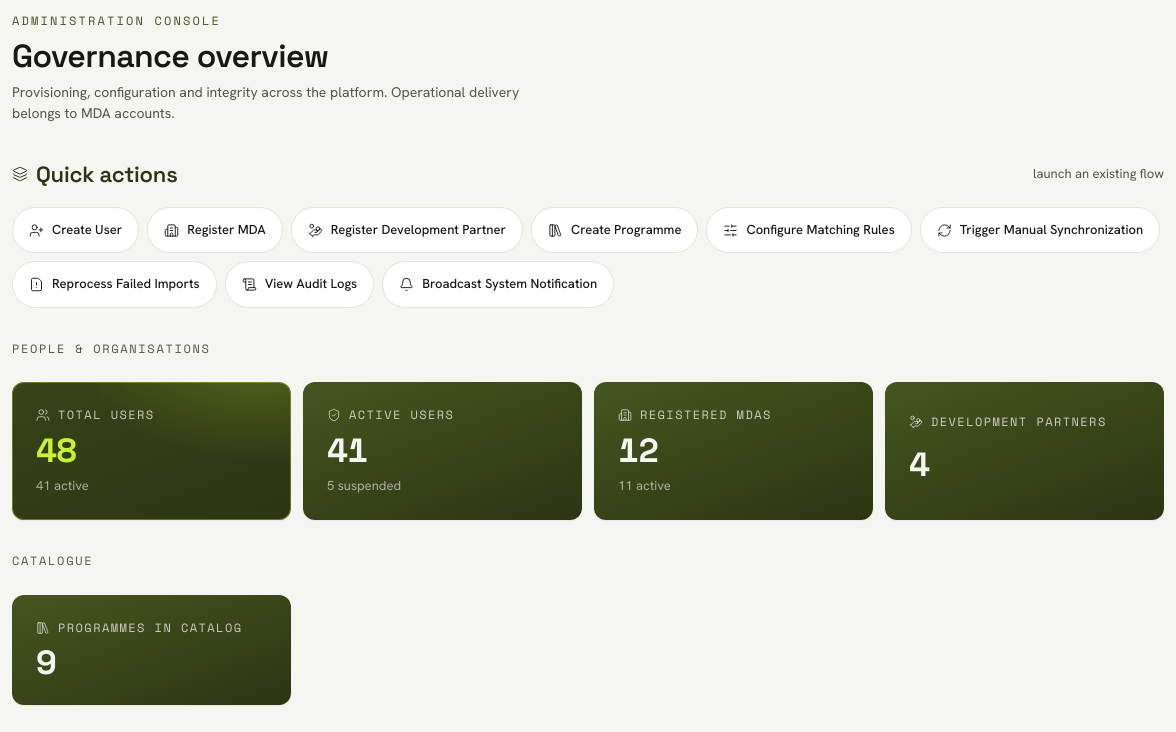
System Administrator console › routes Broadcast System Notification to Settings, where the notifier is wired
expect the heading "Governance overview" is shown: met, box [12,36,328,76]
Click the button "Broadcast System Notification" at (498, 284), box [382,261,614,308]
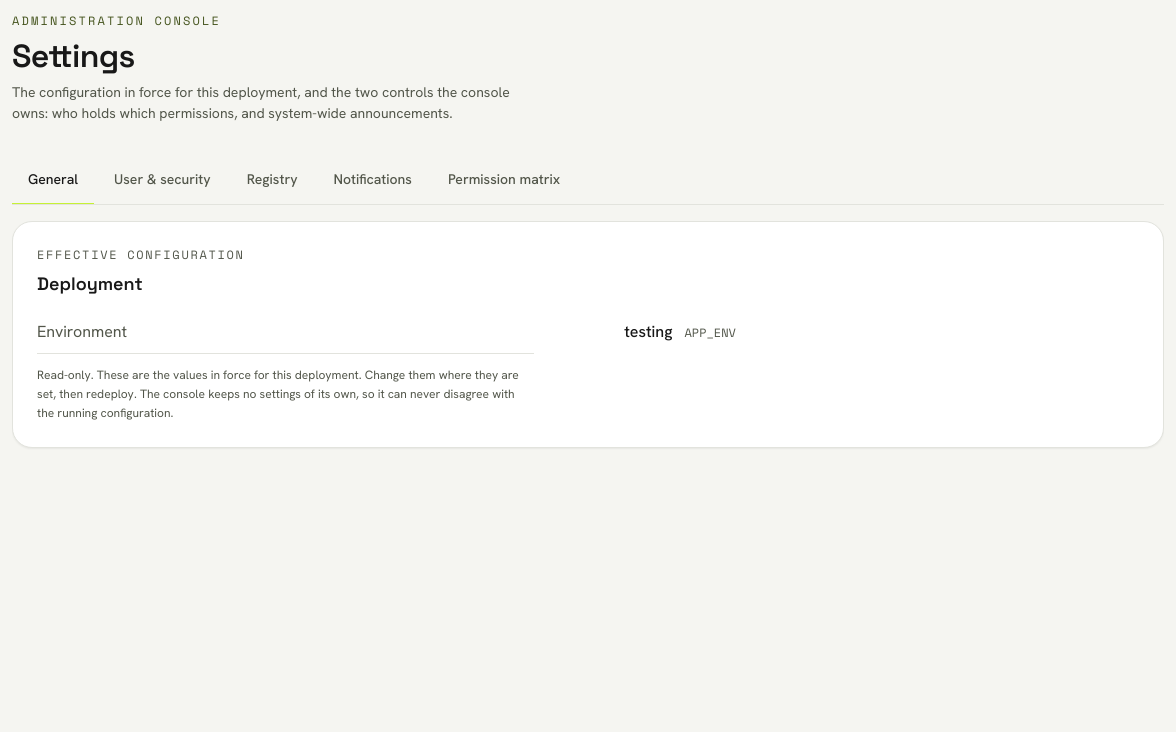
expect the heading "Settings" is shown: met, box [12,36,135,76]
